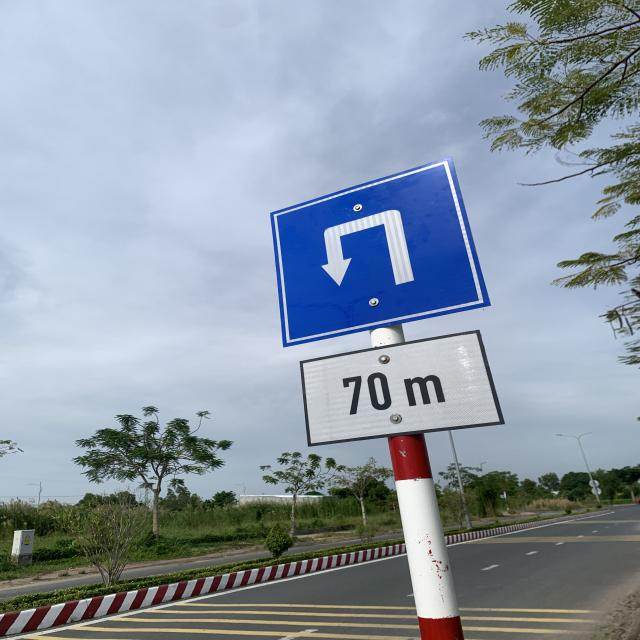Den_Giao_Thong: (271, 158, 491, 346)
